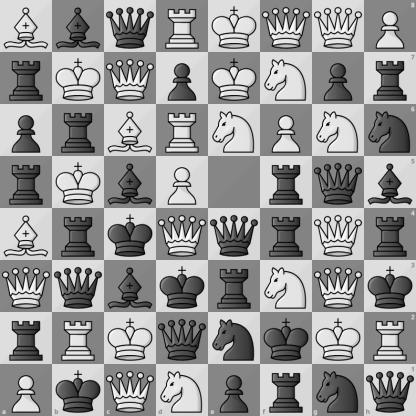B: (1, 1, 52, 52), (1, 209, 52, 260), (105, 105, 156, 156)
K: (53, 53, 104, 104), (53, 157, 104, 208), (105, 313, 156, 364), (209, 1, 260, 52), (209, 53, 260, 104), (313, 313, 364, 364)
N: (156, 364, 209, 416), (209, 105, 260, 156), (261, 53, 312, 104), (261, 261, 312, 312), (313, 105, 364, 156)
P: (0, 364, 52, 416), (364, 0, 416, 52), (157, 157, 208, 208), (261, 105, 312, 156)
Q: (104, 364, 156, 416), (1, 261, 52, 312), (105, 53, 156, 104), (157, 209, 208, 260), (261, 1, 312, 52), (313, 1, 364, 52), (313, 209, 364, 260), (313, 261, 364, 312)
R: (364, 312, 416, 364), (53, 313, 104, 364), (157, 1, 208, 52), (157, 105, 208, 156)
b: (364, 156, 416, 209), (53, 1, 104, 52), (105, 157, 156, 208), (105, 261, 156, 312)
board: (0, 0, 415, 415)
k: (52, 364, 104, 416), (364, 260, 416, 312), (105, 209, 156, 260), (157, 261, 208, 312), (261, 313, 312, 364)
n: (312, 364, 364, 416), (364, 104, 416, 156), (209, 313, 260, 364)
p: (209, 364, 260, 416), (1, 105, 52, 156), (157, 53, 208, 104), (313, 53, 364, 104)
q: (364, 364, 416, 416), (53, 261, 104, 312), (105, 1, 156, 52), (157, 313, 208, 364), (209, 209, 260, 260), (313, 157, 364, 208)
r: (260, 364, 312, 416), (364, 52, 416, 104), (364, 209, 416, 260), (1, 53, 52, 104), (1, 157, 52, 208), (1, 313, 52, 364), (53, 105, 104, 156), (53, 209, 104, 260), (209, 261, 260, 312), (261, 157, 312, 208), (261, 209, 312, 260)
